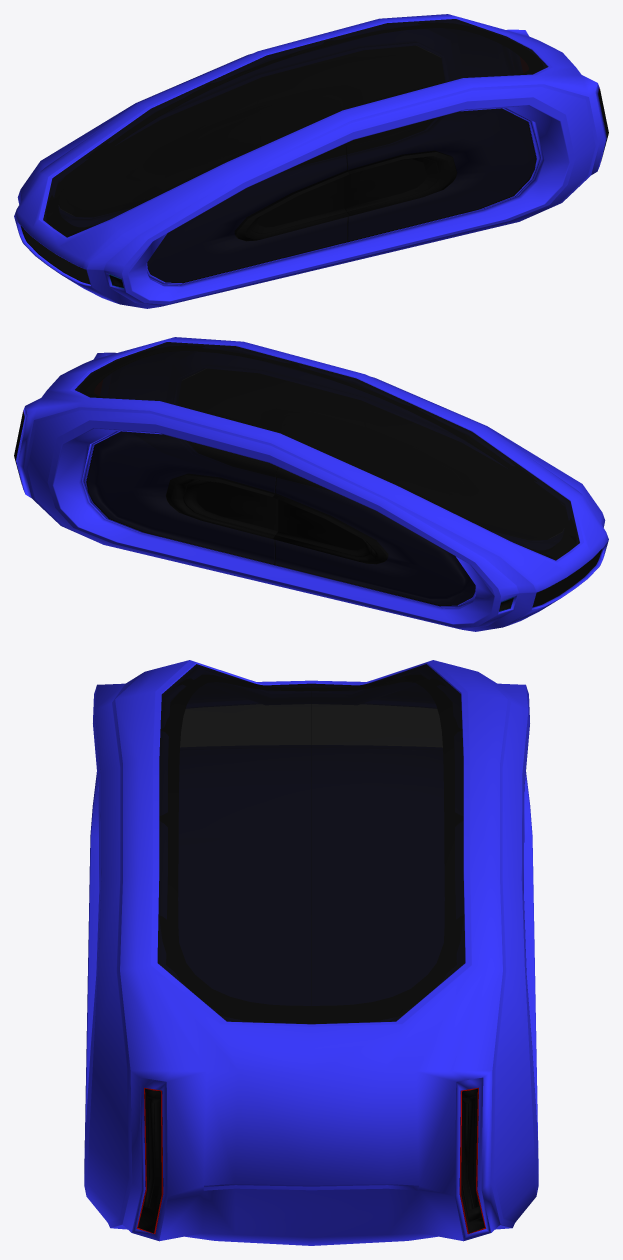
File: FutureCar.obj
3 views of the same model, one above another, from view 1: azimuth 30°, elevation 25°; view 2: azimuth 150°, elevation 25°; view 3: azimuth 270°, elevation 25° (orthographic). The views are drawn at different scales.
Parts seen in each view (by area): view 1: Plane; view 2: Plane; view 3: Plane.
Part boxes in pixels (bbox=[...]): Plane: bbox=[14, 14, 608, 308]; Plane: bbox=[14, 337, 608, 631]; Plane: bbox=[84, 660, 538, 1245].
Size of the model in its own units: 4.05 by 1.1 by 1.5.
